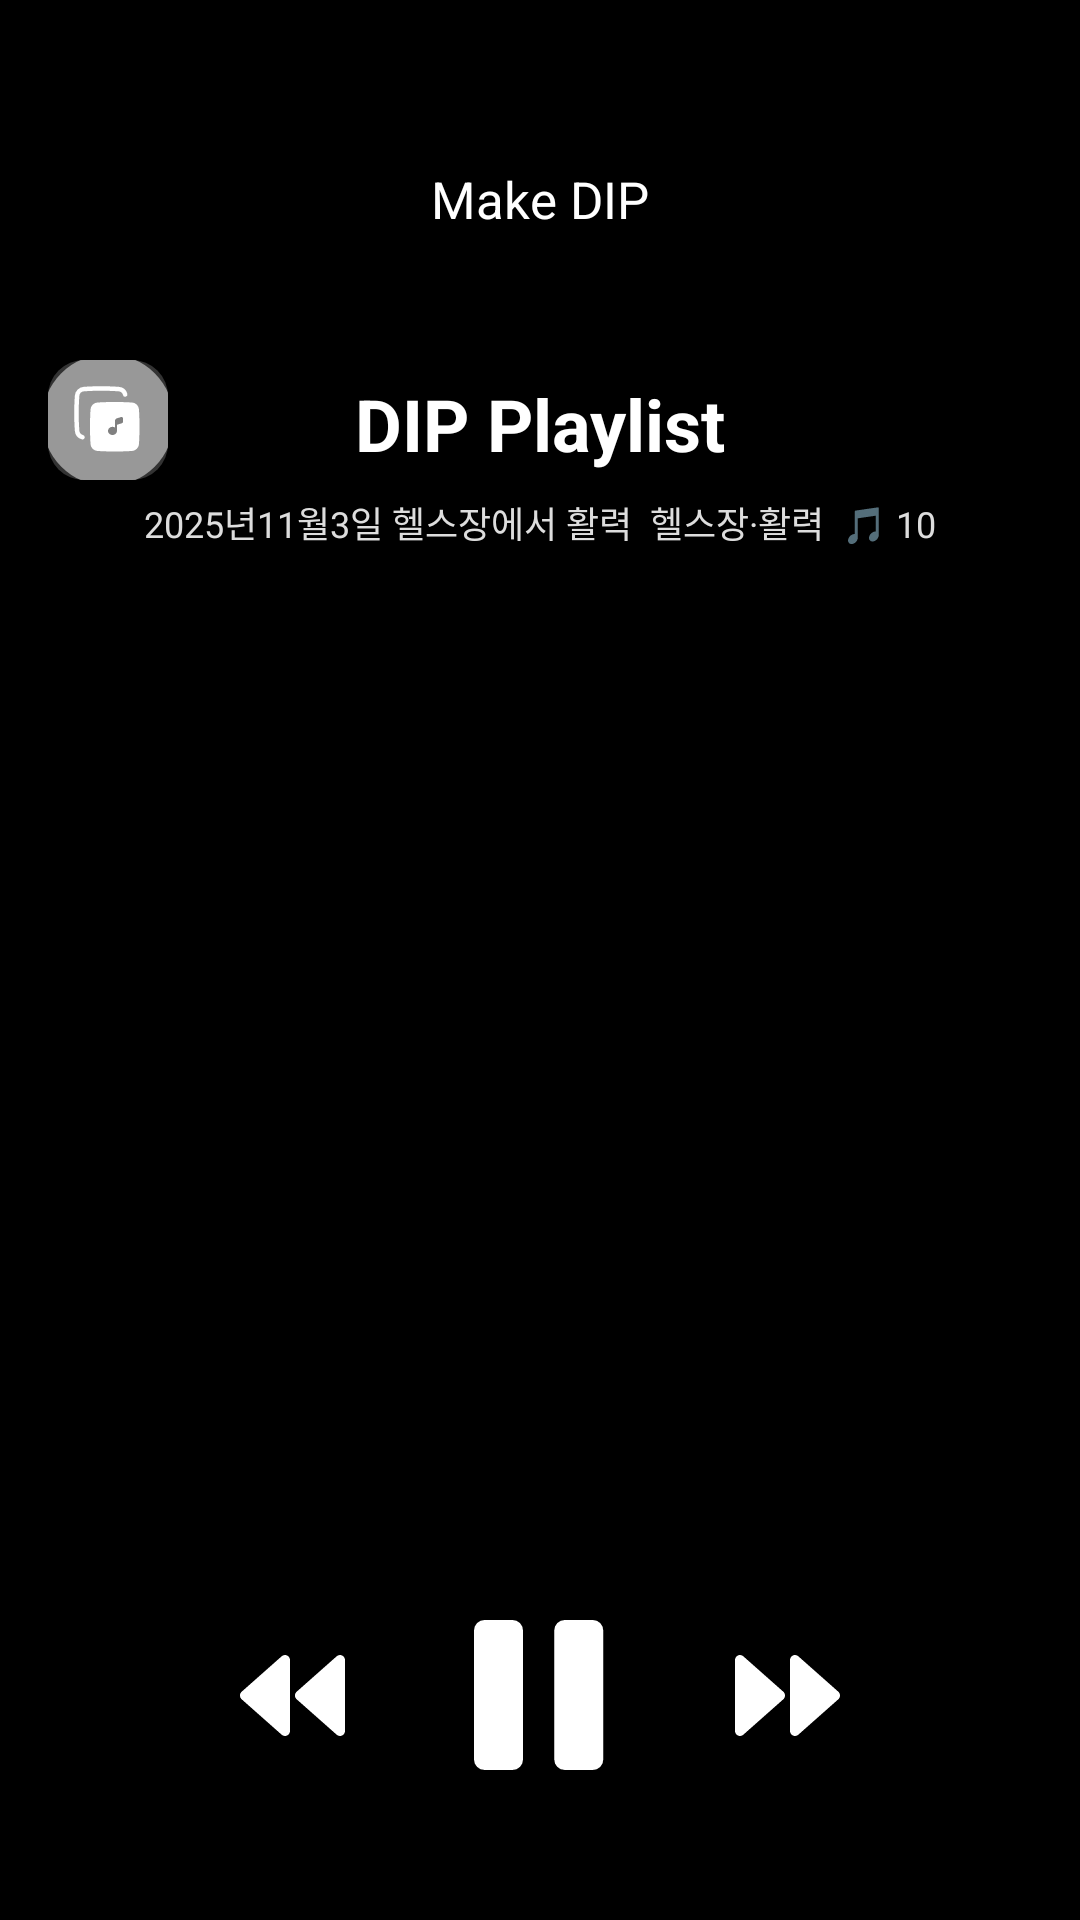

Icon bounding boxes for this 1080 × 1920 phone screenshot, format (x1, y1, x2, y2):
next: (735, 1655, 840, 1736)
pause: (474, 1620, 604, 1770)
prev: (240, 1655, 345, 1736)
switch: (48, 360, 168, 480)
